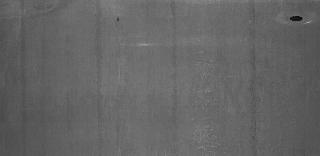oil spot: (114, 14, 120, 22)
punching hole: (288, 13, 304, 23)
